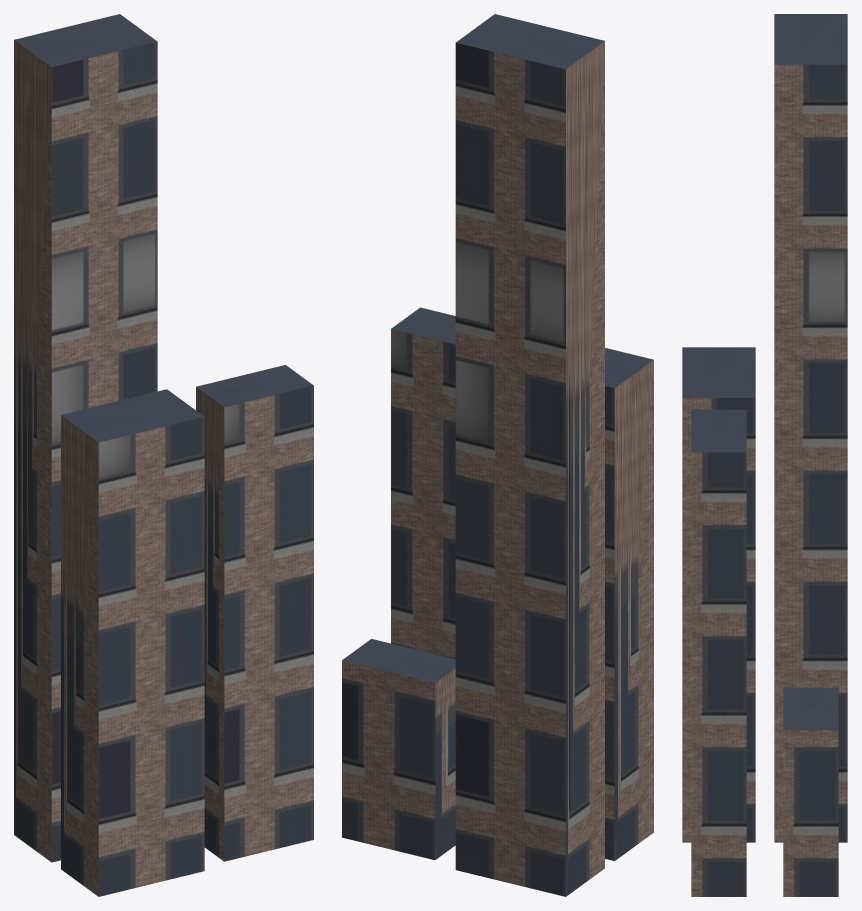
File: block_19.obj
The picture shows the model from 3 angles, left to right: view 1: azimuth 30°, elevation 25°; view 2: azimuth 150°, elevation 25°; view 3: azimuth 270°, elevation 25°; orthographic projection. The views are drawn at different scales.
Visible parts, largest first — view 1: b0, b1, b3; view 2: b0, b1, b2, b3; view 3: b0, b3, b1, b2.
Boxes of the visible parts, x1,y1,x2,y2 form: b0: [14, 14, 157, 862]; b1: [61, 389, 204, 896]; b3: [196, 365, 313, 861]; b0: [455, 14, 604, 896]; b1: [605, 348, 653, 860]; b2: [342, 639, 455, 859]; b3: [391, 307, 455, 659]; b0: [774, 14, 847, 842]; b3: [691, 409, 746, 896]; b1: [682, 347, 755, 842]; b2: [783, 687, 838, 896].
Size of the model in its own units: 4.05 by 14 by 2.7.
